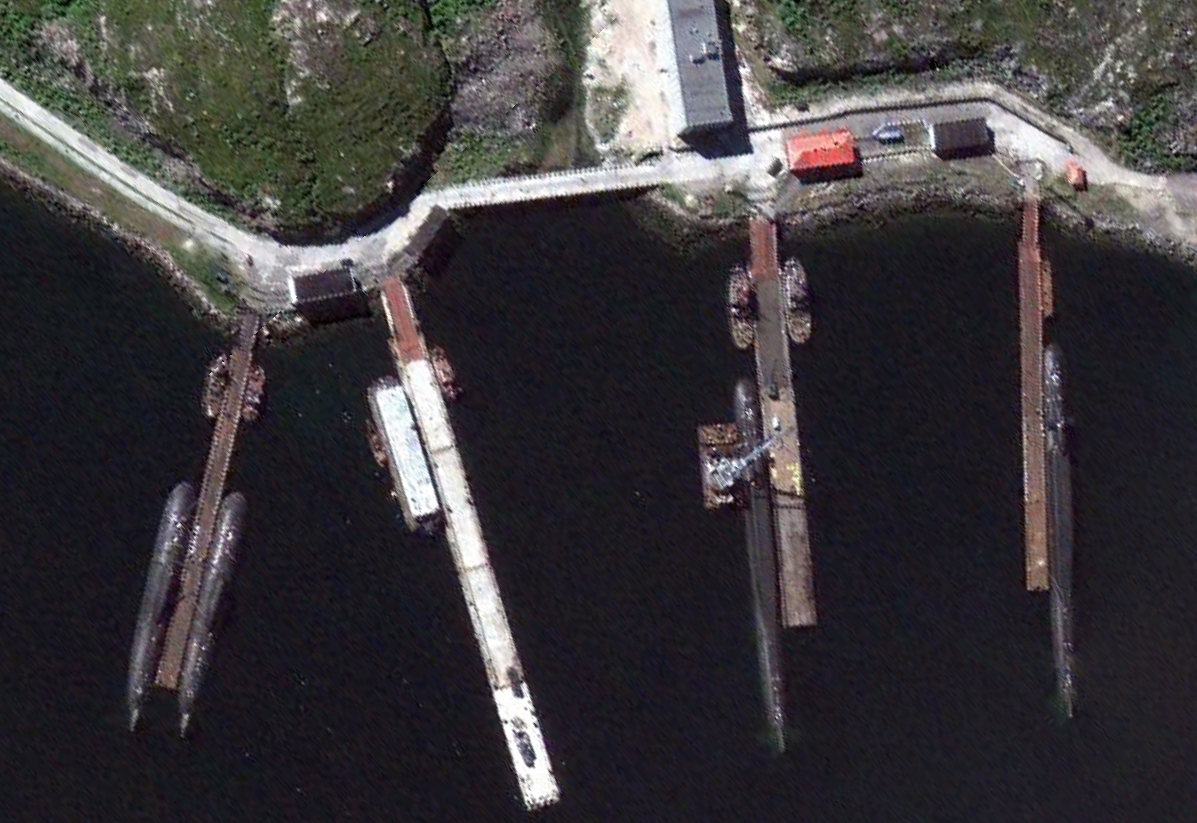merchant ship: (723, 264, 757, 348), (782, 254, 813, 346), (199, 351, 232, 421), (242, 363, 268, 427), (431, 346, 459, 400), (366, 417, 388, 469)
submarine: (733, 382, 791, 754), (124, 481, 197, 734), (174, 490, 243, 737), (1040, 340, 1083, 719)
